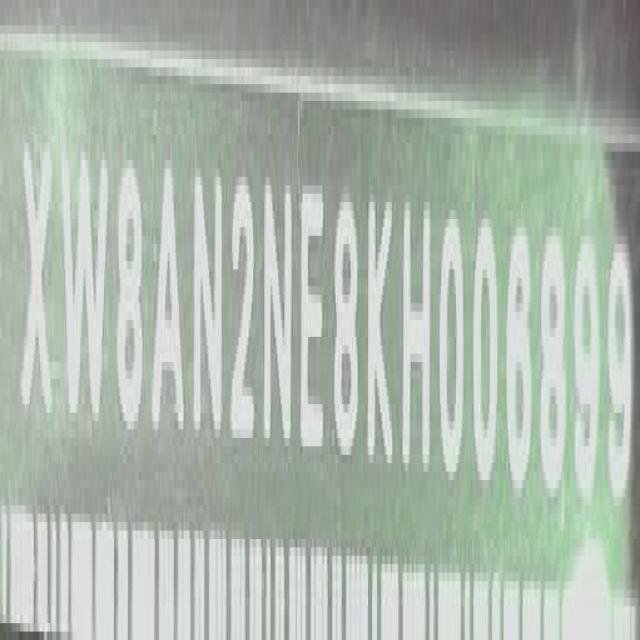0: (437, 200, 466, 502), (471, 211, 500, 497)
2: (230, 168, 257, 456)
6: (506, 214, 534, 499)
8: (118, 150, 146, 442), (538, 237, 567, 518), (334, 182, 358, 468)
9: (608, 238, 635, 504), (576, 232, 602, 504)
A: (151, 155, 183, 447)
E: (302, 174, 328, 464)
H: (403, 186, 435, 483)
K: (363, 181, 397, 483)
N: (261, 166, 296, 460), (190, 165, 226, 449)
W: (59, 140, 110, 440)
X: (21, 134, 54, 432)
